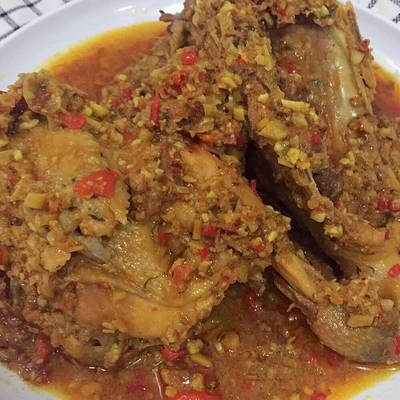ayam_betutu: (3, 2, 400, 369)
